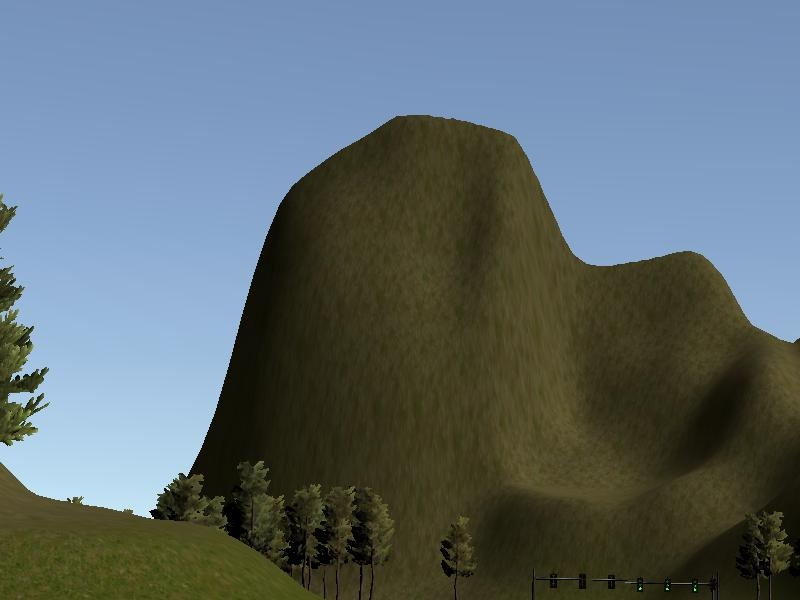green: (663, 578, 671, 593), (637, 577, 644, 593), (692, 578, 698, 593)
